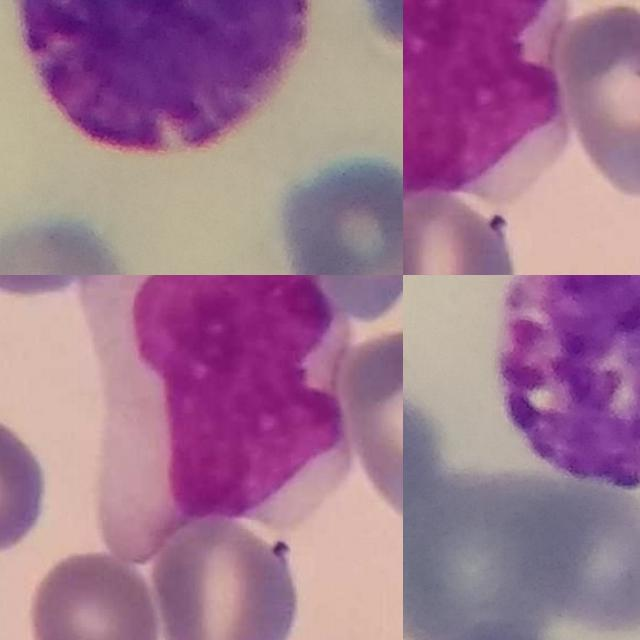Basophil: (19, 0, 314, 158), (499, 275, 640, 494)
Monocyte: (83, 275, 362, 565), (403, 0, 579, 239)
